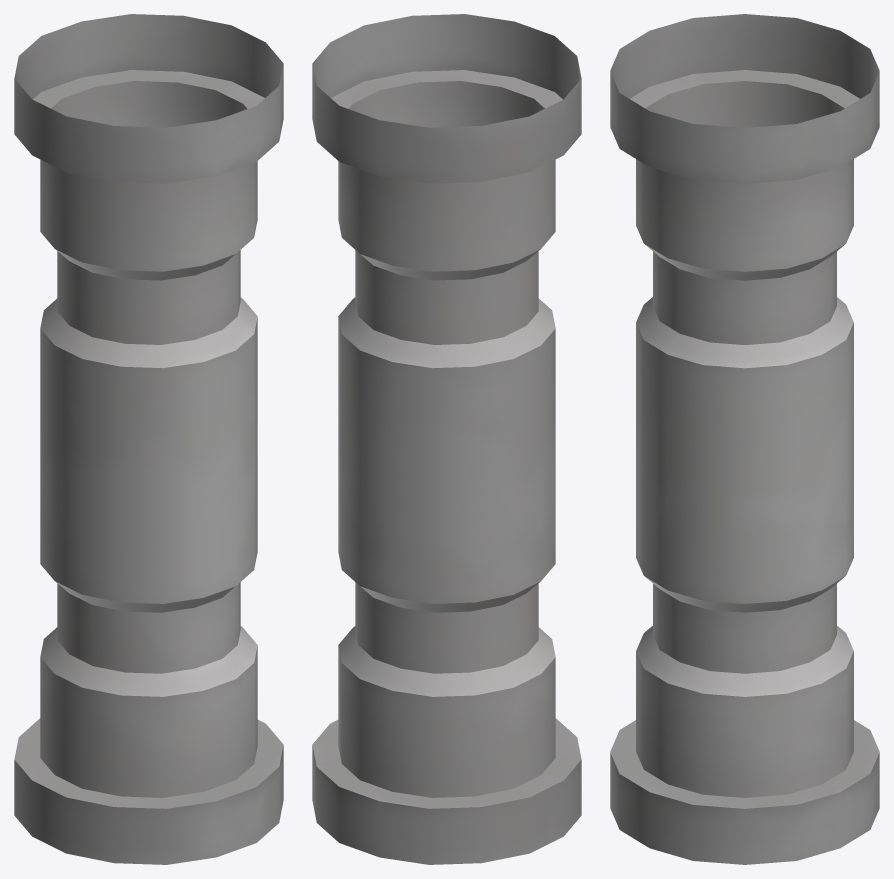
File: Pipe4.fbx
3 views of the same model, side by side, from view 1: azimuth 30°, elevation 25°; view 2: azimuth 150°, elevation 25°; view 3: azimuth 270°, elevation 25° (orthographic).
Visible parts, largest first — view 1: Mat_Pipe_01; view 2: Mat_Pipe_01; view 3: Mat_Pipe_01.
Boxes of the visible parts, box(x1,y1,x2,y2) form: Mat_Pipe_01: box(14, 14, 283, 864); Mat_Pipe_01: box(312, 14, 581, 864); Mat_Pipe_01: box(610, 14, 879, 864).
Size of the model in its own units: 0.3447 by 1.04 by 0.3447.
1 material, 1 textured.
